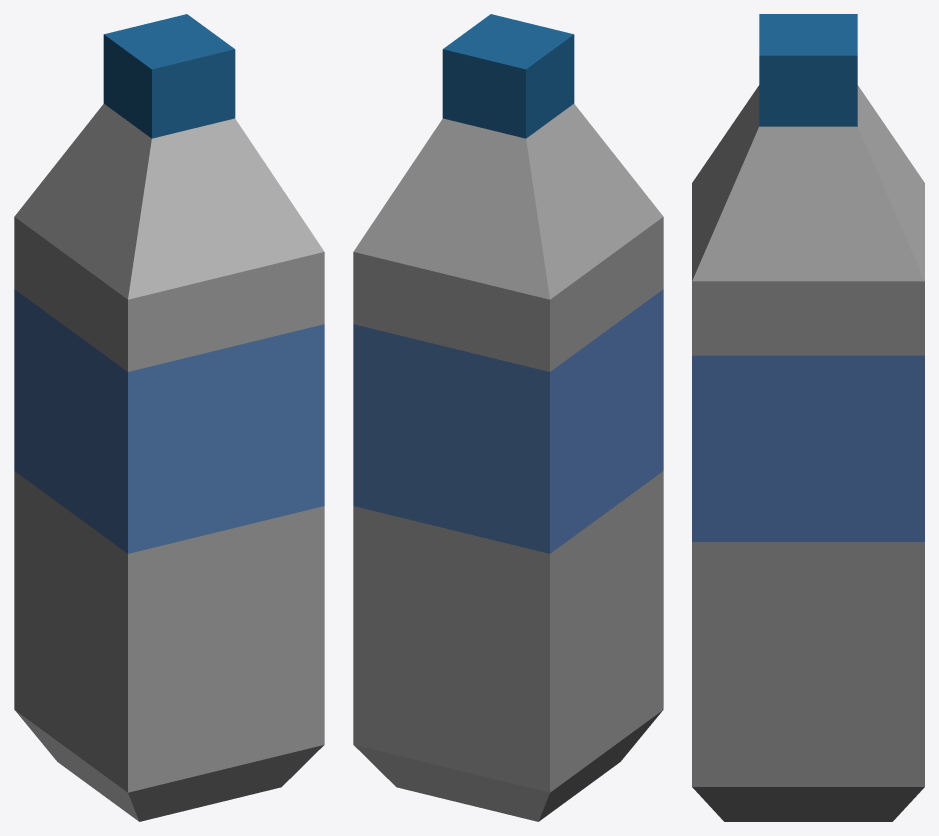
The model's file is AI_Item_WaterBottle.fbx.
The picture shows the model from 3 angles, left to right: view 1: azimuth 30°, elevation 25°; view 2: azimuth 150°, elevation 25°; view 3: azimuth 270°, elevation 25°; orthographic projection. The views are drawn at different scales.
Parts seen in each view (by area): view 1: AI_Item_WaterBottle; view 2: AI_Item_WaterBottle; view 3: AI_Item_WaterBottle.
Boxes of the visible parts, bbox=[...] form: AI_Item_WaterBottle: bbox=[14, 14, 324, 821]; AI_Item_WaterBottle: bbox=[353, 14, 663, 821]; AI_Item_WaterBottle: bbox=[692, 14, 924, 821].
Bounding box in the file's own units: 0.1728 × 0.6155 × 0.1728.
